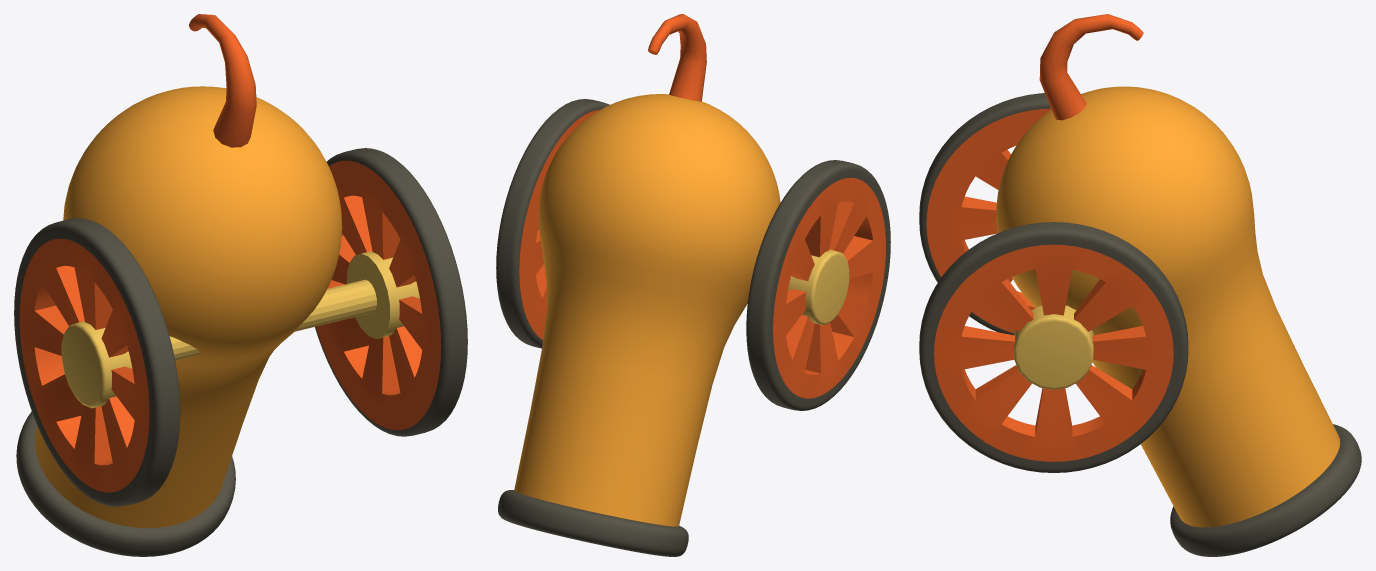
File: cannon.fbx
The picture shows the model from 3 angles, left to right: view 1: azimuth 30°, elevation 25°; view 2: azimuth 150°, elevation 25°; view 3: azimuth 270°, elevation 25°; orthographic projection. The views are drawn at different scales.
Visible parts, largest first — view 1: Sphere004, Tube008, Tube007, Group011, Group010, Group012, Cylinder007, Cylinder008, Line004; view 2: Sphere004, Tube008, Group011, Group010, Group012, Tube007, Cylinder008, Line004; view 3: Sphere004, Tube007, Group010, Tube008, Group012, Cylinder007, Line004, Group011.
Boxes of the visible parts, box(x1,y1,x2,y2) form: Sphere004: box(35, 86, 342, 528); Tube008: box(19, 238, 149, 492); Tube007: box(316, 160, 441, 430); Group011: box(14, 218, 180, 506); Group010: box(315, 148, 467, 436); Group012: box(16, 411, 235, 556); Cylinder007: box(294, 251, 419, 338); Cylinder008: box(61, 321, 200, 408); Line004: box(189, 14, 256, 147); Sphere004: box(514, 94, 780, 526); Tube008: box(773, 177, 885, 398); Group011: box(746, 160, 890, 410); Group010: box(496, 99, 609, 348); Group012: box(498, 490, 688, 556); Tube007: box(519, 110, 599, 339); Cylinder008: box(788, 249, 849, 325); Line004: box(648, 14, 706, 101); Sphere004: box(996, 86, 1340, 527); Tube007: box(934, 244, 1173, 461); Group010: box(919, 222, 1188, 472); Tube008: box(926, 108, 1051, 333); Group012: box(1170, 424, 1361, 556); Cylinder007: box(1014, 305, 1093, 389); Line004: box(1039, 14, 1143, 120); Group011: box(919, 93, 1050, 335).
Bounding box in the file's own units: 2518 × 4302 × 3287.
